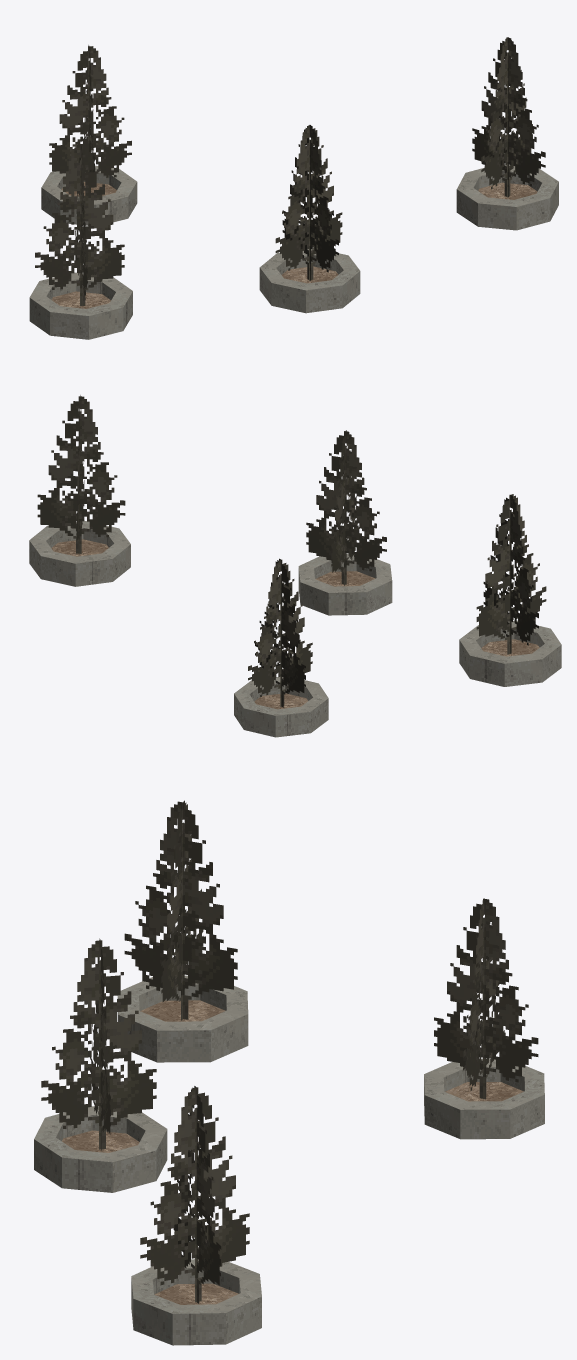
File: procgen-procpain-tree-park-pine-large-x1zm2.obj
3 renders of one model, top to bottom at view 1: azimuth 30°, elevation 25°; view 2: azimuth 150°, elevation 25°; view 3: azimuth 270°, elevation 25°, orthographic. The views are drawn at different scales.
Bounding box in the file's own units: 31.26 × 9.59 × 20.51.
